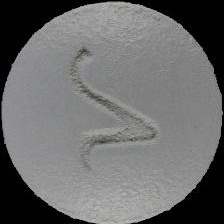0603-5062: (0, 0, 224, 224)
